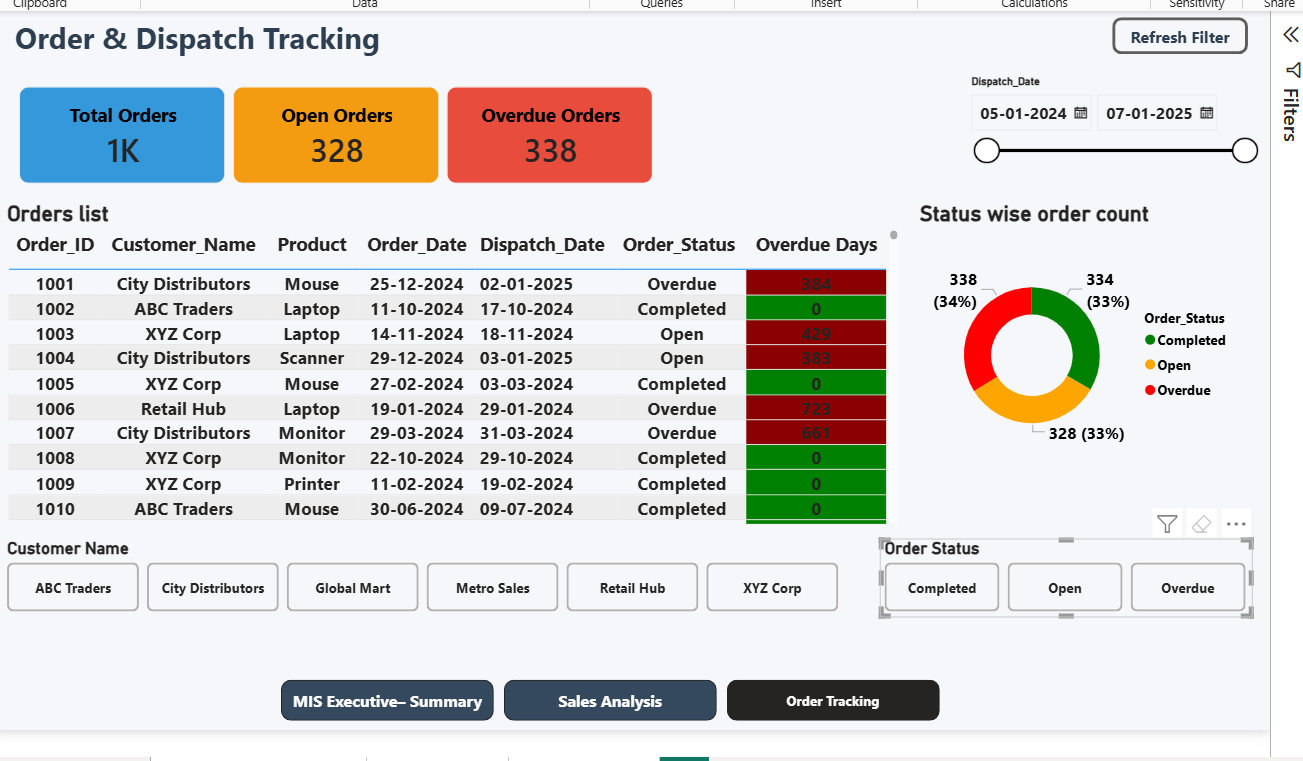

Layout of this report page (visuals, bound fields, positions):
{"tool":"powerbi","page":{"name":"Order Tracking","canvas":[1280,720],"ordinal":2},"visuals":[{"type":"shape","box":[0,0,1280.3,52.1],"z":0},{"type":"actionButton","box":[1122.5,6.9,135.8,37],"z":1000},{"type":"pageNavigator","box":[290.3,669.4,659.4,41.3],"z":2000},{"type":"cardVisual","fields":{"Data":["MIS_Sales_Data.Total Orders","MIS_Sales_Data.Open Orders","MIS_Sales_Data.Overdue Orders"]},"box":[11.1,59.1,670.2,131.8],"z":3000},{"type":"tableEx","title":"Orders list","fields":{"Values":["MIS_Sales_Data.Order_ID","MIS_Sales_Data.Customer_Name","MIS_Sales_Data.Product","MIS_Sales_Data.Order_Date.Variation.Date Hierarchy.Month","MIS_Sales_Data.Dispatch_Date.Variation.Date Hierarchy.Day","MIS_Sales_Data.Order_Status","MIS_Sales_Data.Overdue Days"]},"box":[11.3,190.2,902.1,327.8],"z":4000},{"type":"donutChart","title":"Status wise order count","fields":{"Category":["MIS_Sales_Data.Order_Status"],"Y":["CountNonNull(MIS_Sales_Data.Order_ID)"]},"box":[924.7,190.2,337.8,285.3],"z":6000},{"type":"advancedSlicerVisual","title":"Customer Name","fields":{"Values":["MIS_Sales_Data.Customer_Name"]},"box":[11.3,528,845.8,78.8],"z":6001},{"type":"slicer","fields":{"Values":["MIS_Sales_Data.Dispatch_Date"]},"box":[968.3,59.1,308,115.8],"z":6002},{"type":"advancedSlicerVisual","title":"Order Status","fields":{"Values":["MIS_Sales_Data.Order_Status"]},"box":[889.6,528,372.9,78.8],"z":6003}]}

Visuals, with their boxes on the page's 1280x720 design canvas (x1, y1, x2, y2). These are canvas units, not pixel positions in the 1303x761 screenshot, which may show the page scaled, cropped or inside an application window:
shape: select_region(0, 0, 1280, 52)
actionButton: select_region(1122, 7, 1258, 44)
pageNavigator: select_region(290, 669, 950, 711)
cardVisual - MIS_Sales_Data.Total Orders x MIS_Sales_Data.Open Orders: select_region(11, 59, 681, 191)
"Orders list" tableEx: select_region(11, 190, 913, 518)
"Status wise order count" donutChart: select_region(925, 190, 1262, 476)
"Customer Name" advancedSlicerVisual: select_region(11, 528, 857, 607)
slicer - MIS_Sales_Data.Dispatch_Date: select_region(968, 59, 1276, 175)
"Order Status" advancedSlicerVisual: select_region(890, 528, 1262, 607)
